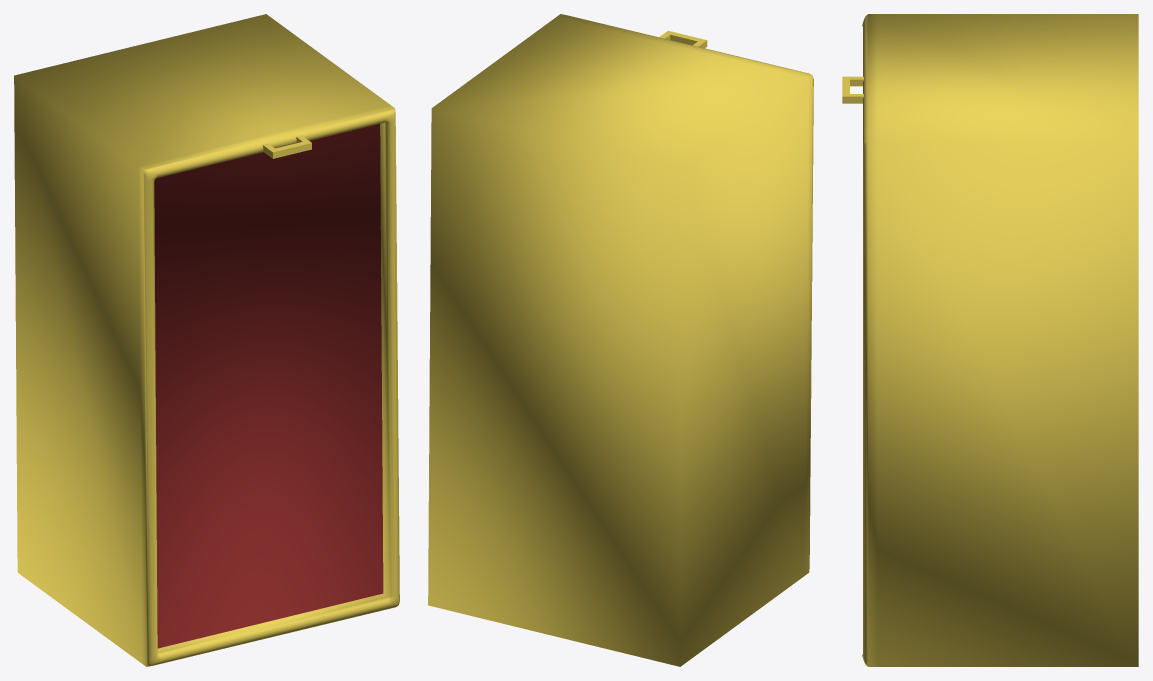
File: AlmacénBandejas 1.fbx
3 views of the same model, side by side, from view 1: azimuth 30°, elevation 25°; view 2: azimuth 150°, elevation 25°; view 3: azimuth 270°, elevation 25° (orthographic). The views are drawn at different scales.
Visible parts, largest first — view 1: Caja de bandejas; view 2: Caja de bandejas; view 3: Caja de bandejas.
Part boxes in pixels (<box>): Caja de bandejas: <box>14,14,399,666</box>; Caja de bandejas: <box>428,14,813,666</box>; Caja de bandejas: <box>842,14,1138,666</box>.
Size of the model in its own units: 0.7223 by 1.34 by 0.6905.
